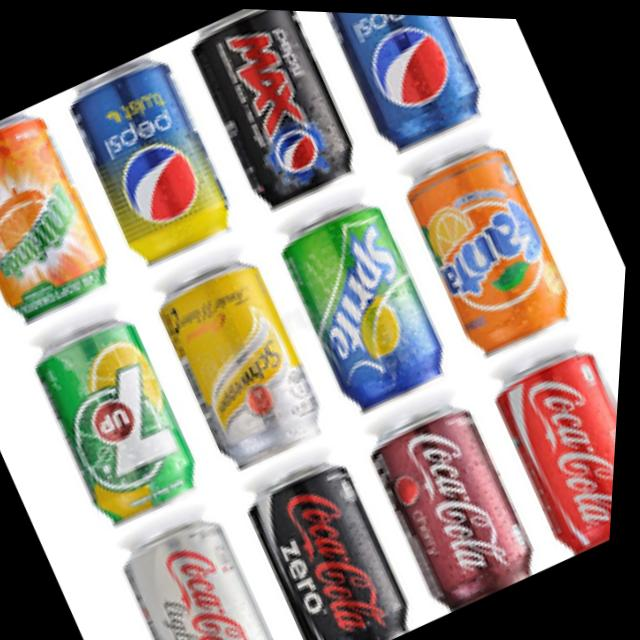aluminum_soda_cans: (387, 126, 595, 365), (265, 185, 470, 421), (59, 40, 260, 275), (23, 305, 223, 538), (148, 250, 342, 480), (175, 5, 374, 216), (0, 99, 132, 333), (379, 410, 537, 601), (300, 9, 496, 159), (272, 465, 413, 640), (501, 348, 622, 550), (128, 520, 280, 640)
